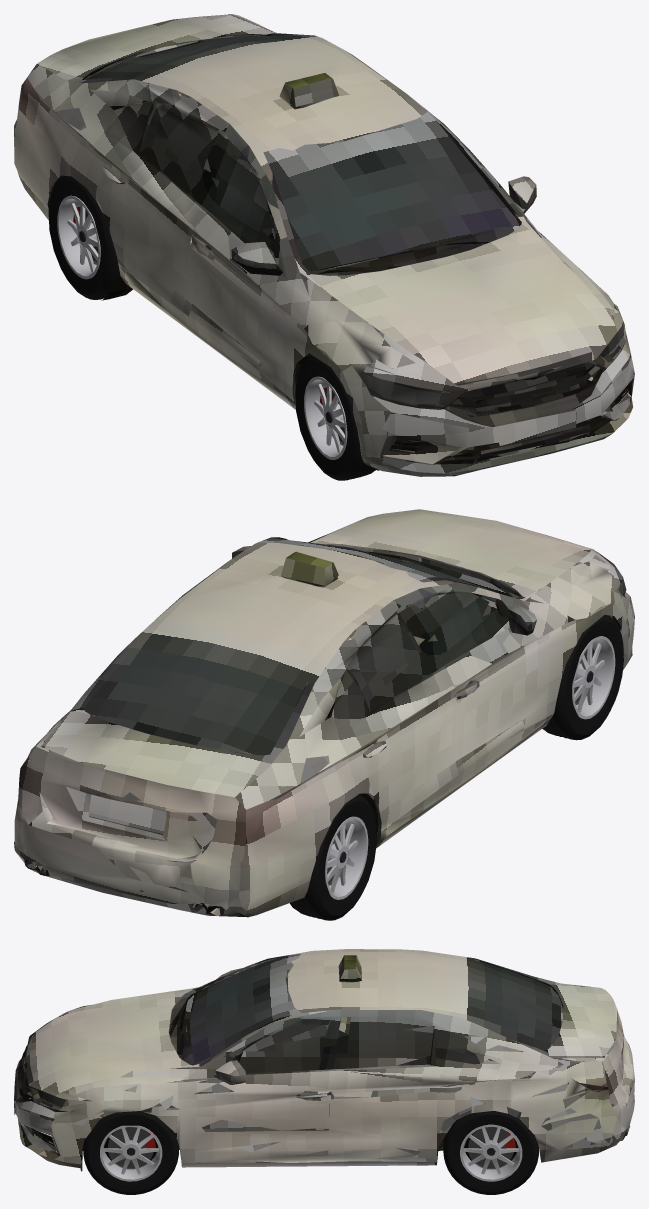
Rendered from taxi_m.glb.
The picture shows the model from 3 angles, top to bottom: view 1: azimuth 30°, elevation 25°; view 2: azimuth 150°, elevation 25°; view 3: azimuth 270°, elevation 25°; orthographic projection. The views are drawn at different scales.
Visible parts, largest first — view 1: karosserie, rad_hr, rad_vr; view 2: karosserie, rad_hr, rad_vr; view 3: karosserie, rad_hl, rad_vl.
Part boxes in pixels (<box>): karosserie: <box>14,14,634,476</box>; rad_hr: <box>48,175,119,299</box>; rad_vr: <box>295,355,376,480</box>; karosserie: <box>14,509,634,917</box>; rad_hr: <box>289,794,376,920</box>; rad_vr: <box>542,615,623,740</box>; karosserie: <box>14,949,634,1171</box>; rad_hl: <box>443,1111,538,1194</box>; rad_vl: <box>83,1111,178,1194</box>.
Size of the model in its own units: 1.96 by 1.6 by 4.8.
3 materials, 1 textured.
